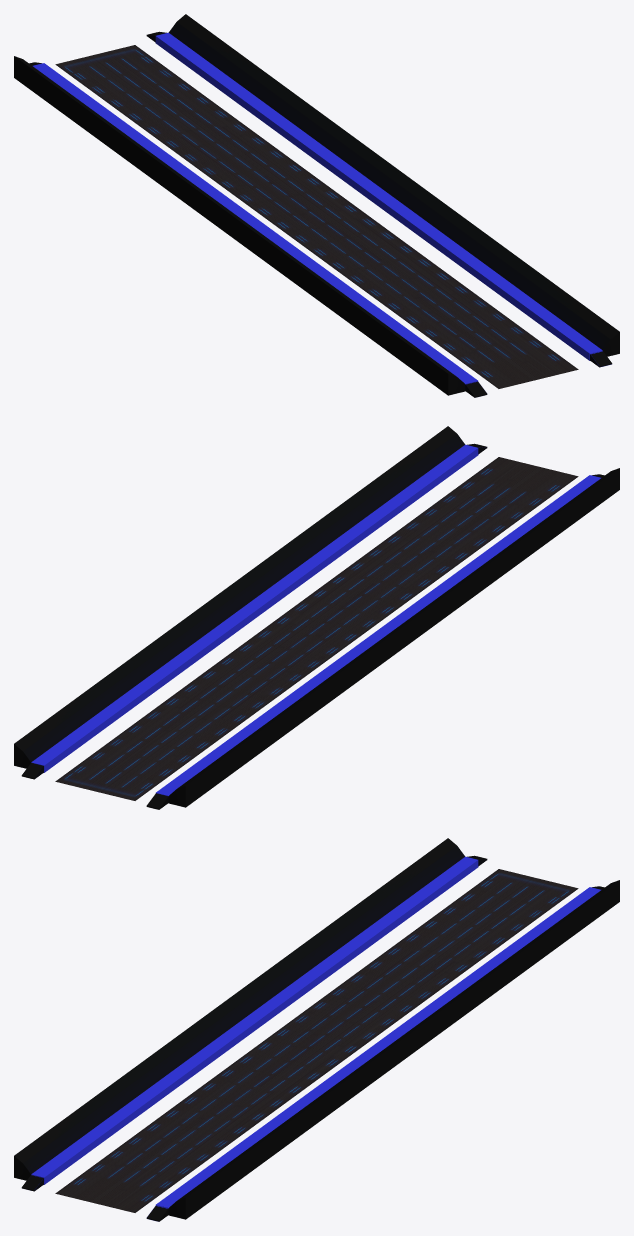
The model's file is Runway&Walls.dae.
The picture shows the model from 3 angles, top to bottom: view 1: azimuth 30°, elevation 25°; view 2: azimuth 150°, elevation 25°; view 3: azimuth 330°, elevation 25°; orthographic projection.
Visible parts, largest first — view 1: GutterWallsAlone; view 2: GutterWallsAlone; view 3: GutterWallsAlone.
Part boxes in pixels (x1,y1,x2,y2): GutterWallsAlone: (14, 14, 619, 397); GutterWallsAlone: (14, 426, 619, 809); GutterWallsAlone: (14, 838, 619, 1221).
Bounding box in the file's own units: 5.37 × 24.51 × 0.6918.
3 materials, 3 textured.
